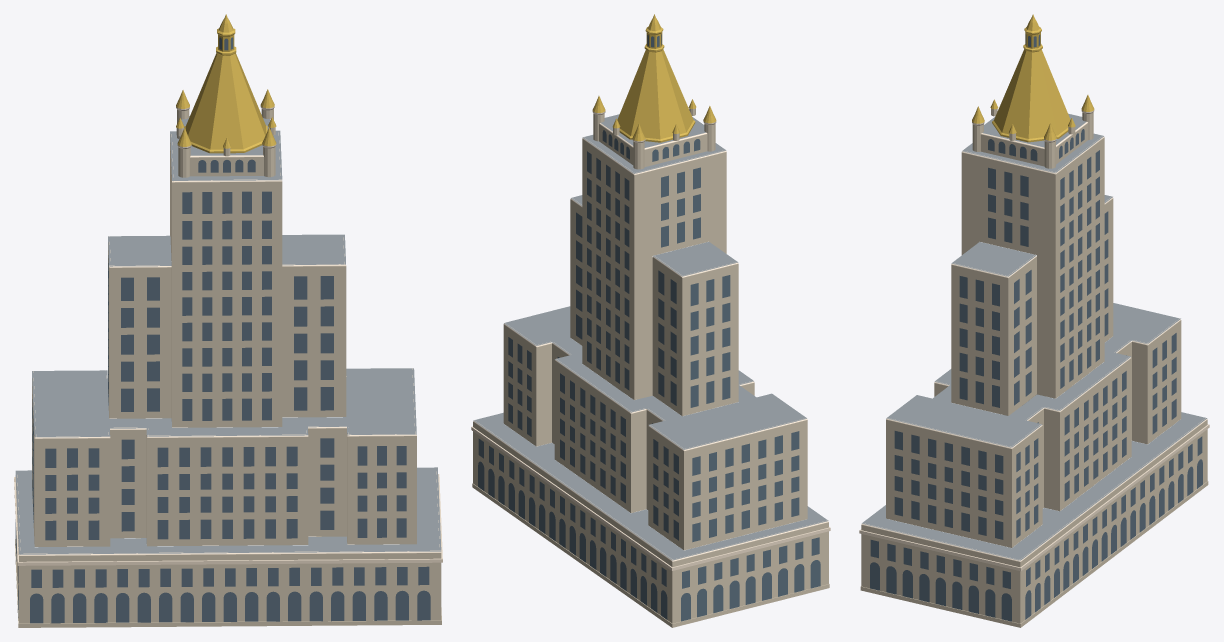
Rendered from detail.glb.
The picture shows the model from 3 angles, left to right: view 1: azimuth 30°, elevation 25°; view 2: azimuth 150°, elevation 25°; view 3: azimuth 270°, elevation 25°; orthographic projection. The views are drawn at different scales.
Parts seen in each view (by area): view 1: new-york-life-building; view 2: new-york-life-building; view 3: new-york-life-building.
Part boxes in pixels (left/top/right/bottom): new-york-life-building: left=14, top=14, right=442, bottom=627; new-york-life-building: left=471, top=14, right=830, bottom=627; new-york-life-building: left=859, top=14, right=1209, bottom=627.
Bounding box in the file's own units: 140 × 188 × 114.
